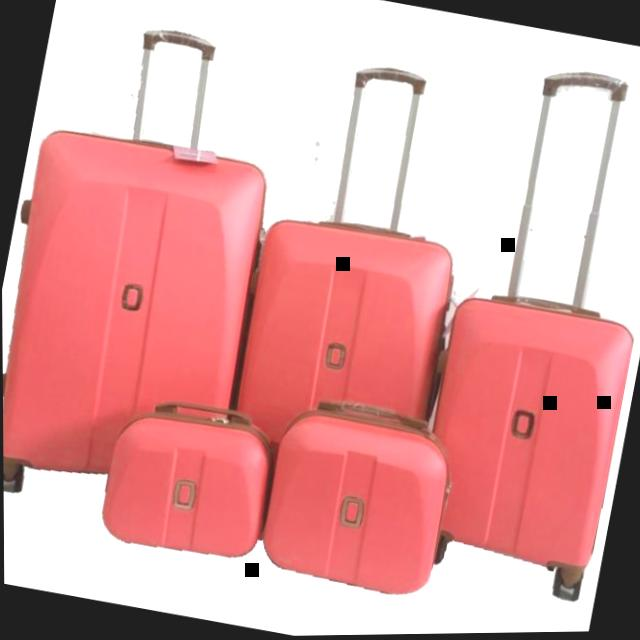luggage: (1, 114, 279, 509), (405, 280, 640, 583), (221, 200, 466, 455), (247, 391, 464, 608), (90, 387, 285, 568)
